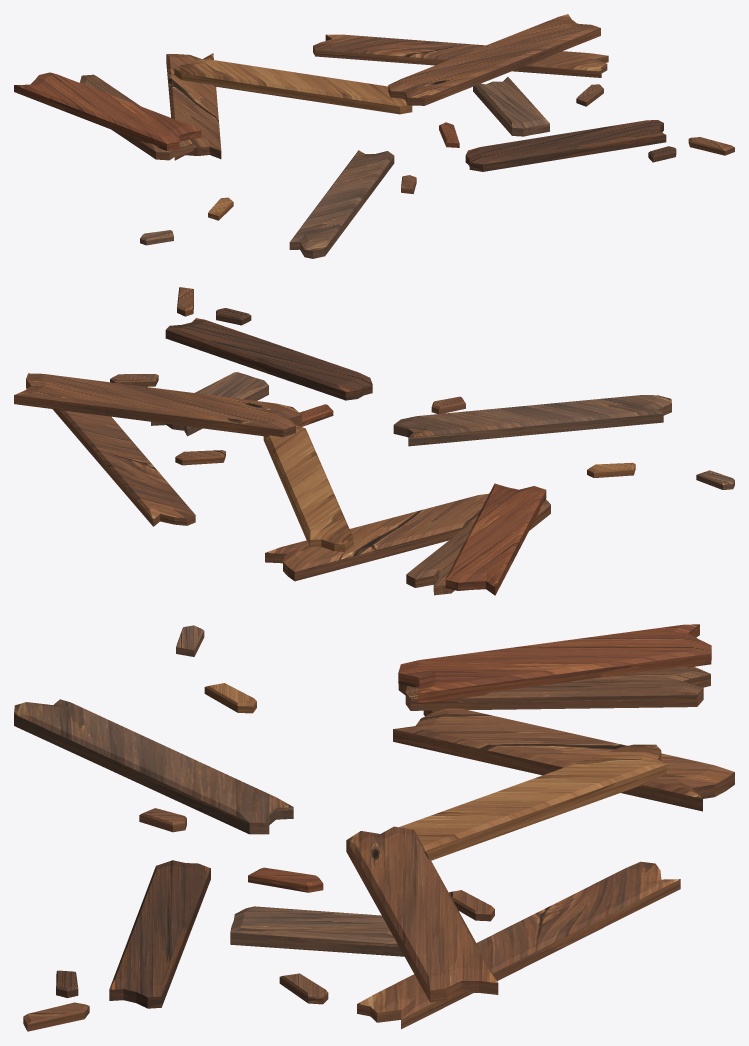
The model's file is junk_rubble_wood_c.glb.
3 views of the same model, one above another, from view 1: azimuth 30°, elevation 25°; view 2: azimuth 150°, elevation 25°; view 3: azimuth 270°, elevation 25° (orthographic). The views are drawn at different scales.
Parts seen in each view (by area): view 1: model; view 2: model; view 3: model.
Part boxes in pixels (box(x1,y1,x2,y2)): model: box(14, 14, 734, 258); model: box(14, 287, 734, 595); model: box(14, 624, 734, 1031).
Size of the model in its own units: 1.7 by 0.088 by 1.3.
Materials: 8 (8 with a texture image).
